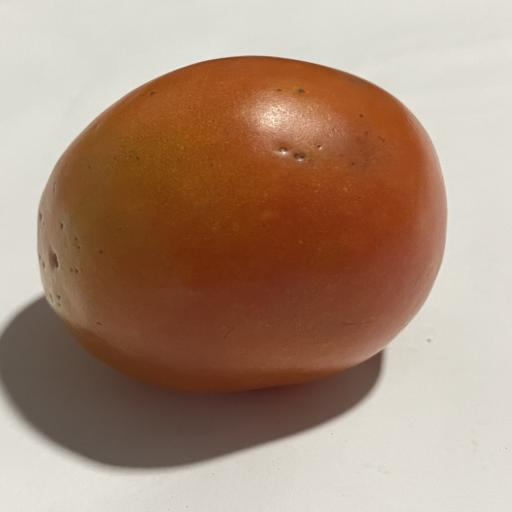unripe: (37, 57, 446, 391)
